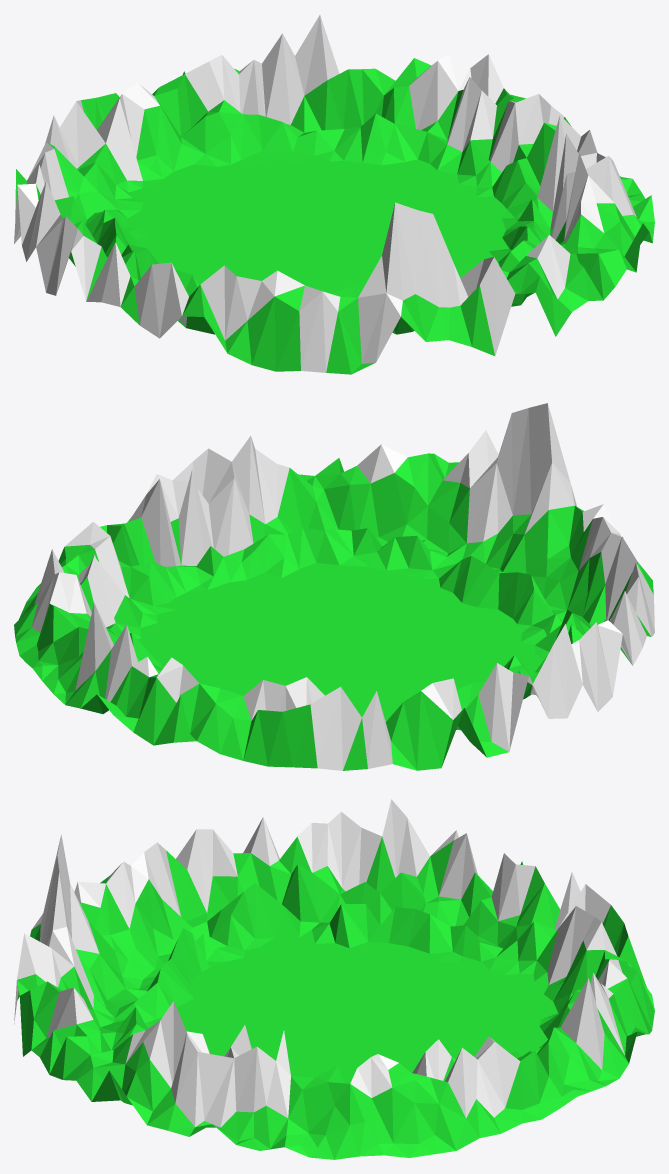
Rendered from outline.FBX.
3 views of the same model, one above another, from view 1: azimuth 30°, elevation 25°; view 2: azimuth 150°, elevation 25°; view 3: azimuth 270°, elevation 25° (orthographic).
Visible parts, largest first — view 1: Circle001; view 2: Circle001; view 3: Circle001.
Boxes of the visible parts, left/top/right/bottom form: Circle001: left=14, top=15, right=654, bottom=374; Circle001: left=14, top=403, right=654, bottom=770; Circle001: left=14, top=799, right=654, bottom=1159.
Bounding box in the file's own units: 409 × 110 × 409.
